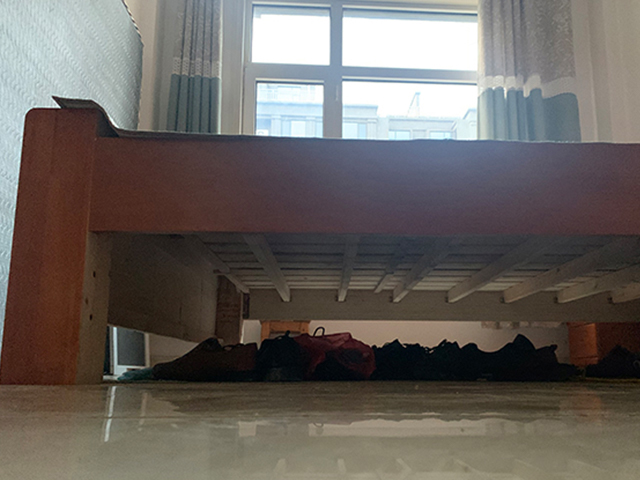bed: (1, 95, 640, 387)
cabinet: (569, 322, 640, 373)
